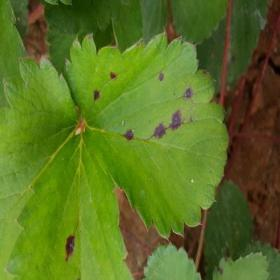Leaf Spot: (63, 32, 229, 241), (4, 132, 133, 279), (196, 0, 270, 100), (203, 180, 254, 279)
